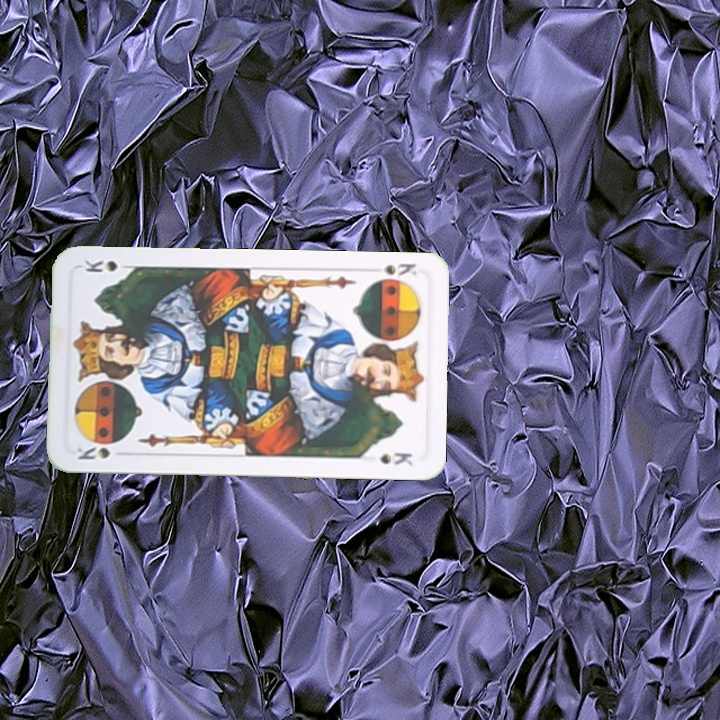SK: (73, 442, 130, 462), (378, 259, 423, 279)
